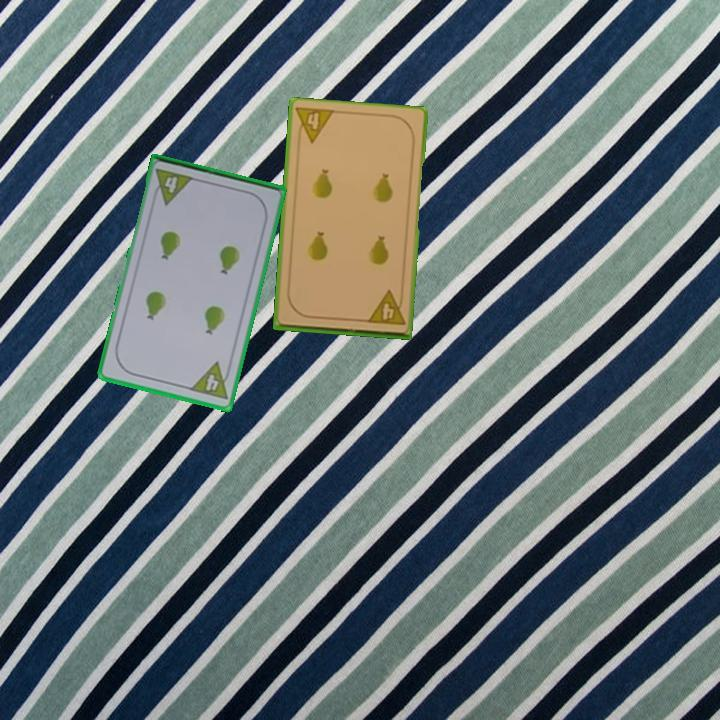4p: (186, 359, 234, 402), (149, 165, 196, 208), (292, 104, 337, 146), (363, 288, 408, 328)
